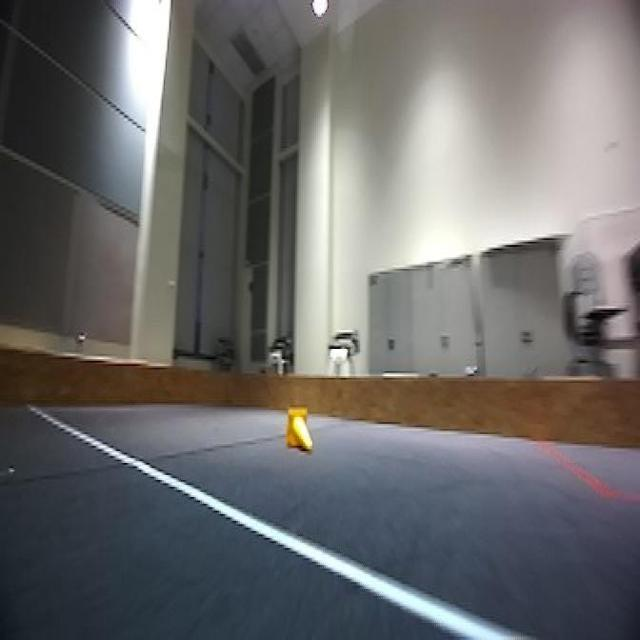frc_cone: (285, 408, 313, 453)
